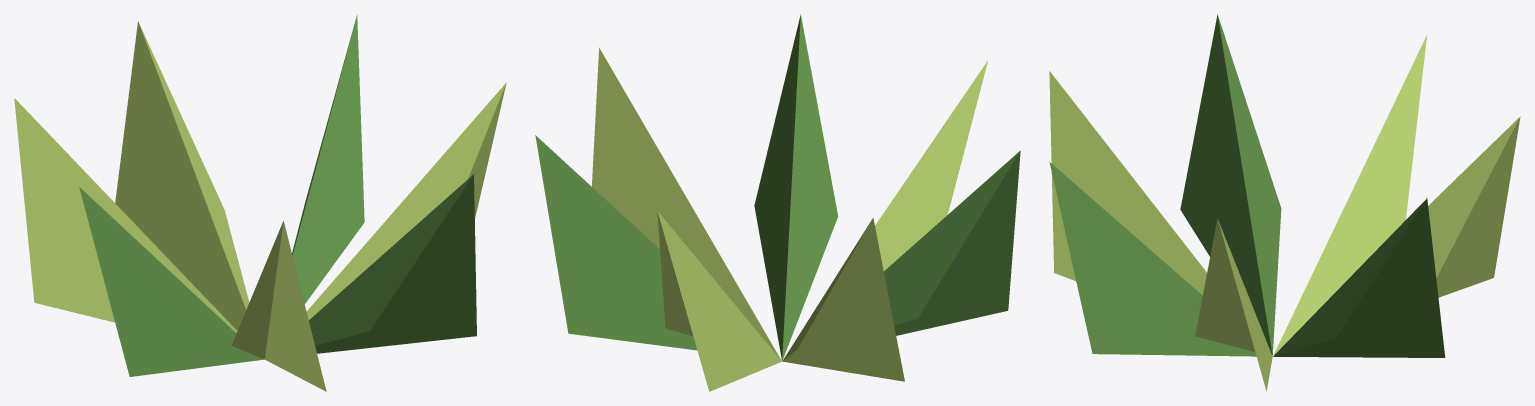
Rendered from adventure-herb.glb.
The picture shows the model from 3 angles, left to right: view 1: azimuth 30°, elevation 25°; view 2: azimuth 150°, elevation 25°; view 3: azimuth 270°, elevation 25°; orthographic projection. The views are drawn at different scales.
Visible parts, largest first — view 1: Herb_leaf, Herb_leaf.003, Herb_leaf.006, Herb_leaf.005, Herb_leaf.001, Herb_leaf.002, Herb_leaf.004; view 2: Herb_leaf.001, Herb_leaf.003, Herb_leaf.005, Herb_leaf.002, Herb_leaf.006, Herb_leaf, Herb_leaf.004; view 3: Herb_leaf.005, Herb_leaf.003, Herb_leaf.001, Herb_leaf.006, Herb_leaf.004, Herb_leaf, Herb_leaf.002.
Part boxes in pixels (x1,y1,x2,y2): Herb_leaf: (115,21,249,330); Herb_leaf.003: (309,174,476,353); Herb_leaf.006: (14,98,237,332); Herb_leaf.005: (79,187,263,376); Herb_leaf.001: (292,14,364,303); Herb_leaf.002: (306,82,506,319); Herb_leaf.004: (231,221,326,391); Herb_leaf.001: (535,135,697,350); Herb_leaf.003: (754,14,838,361); Herb_leaf.005: (884,150,1020,335); Herb_leaf.002: (591,47,781,360); Herb_leaf.006: (782,218,904,381); Herb_leaf: (657,211,781,391); Herb_leaf.004: (875,60,988,271); Herb_leaf.005: (1180,14,1281,355); Herb_leaf.003: (1049,162,1256,356); Herb_leaf.001: (1273,198,1445,357); Herb_leaf.006: (1273,34,1427,355); Herb_leaf.004: (1049,71,1206,295); Herb_leaf: (1428,116,1520,297); Herb_leaf.002: (1195,219,1272,391).
Size of the model in its own units: 1.09 by 0.6 by 1.06.
